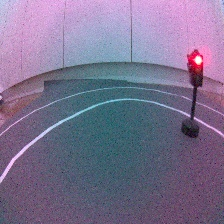red: (179, 48, 207, 139)
